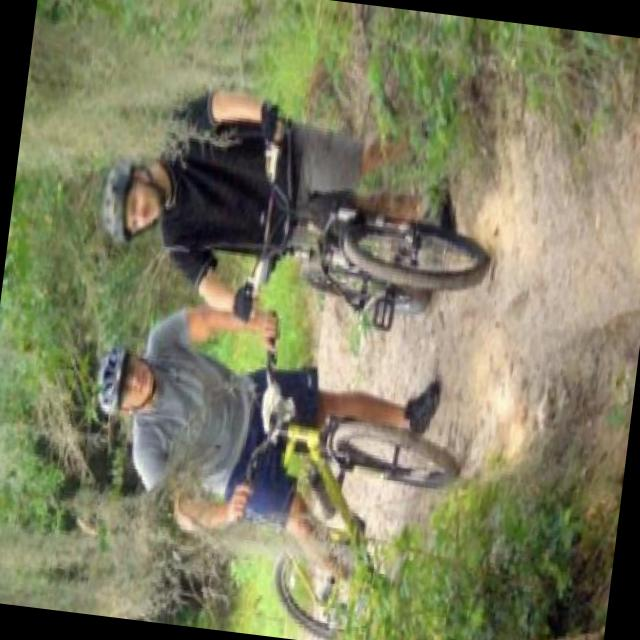With Helmet: (96, 144, 172, 248), (90, 332, 164, 426)
